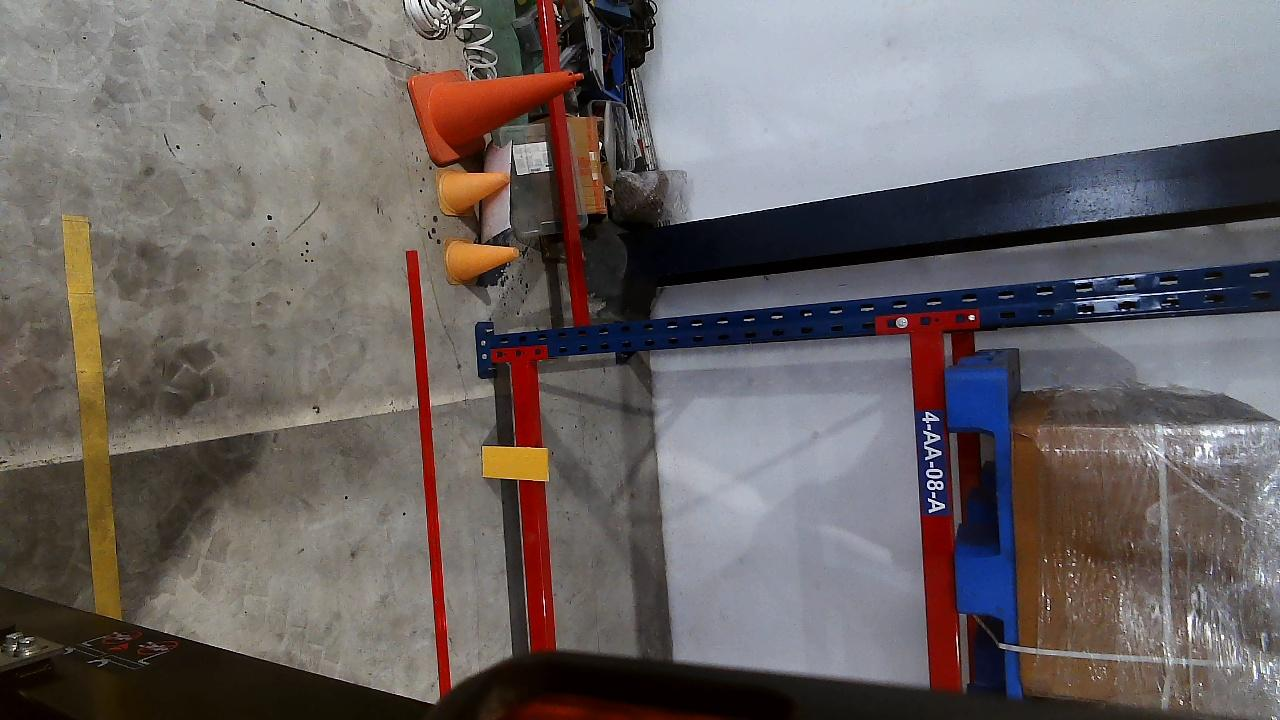h_rack: (908, 326, 962, 690), (509, 358, 555, 651)
orange_strip: (482, 446, 550, 480)
red_line: (409, 250, 452, 694)
small_pallet: (941, 369, 1024, 691)
yellow_line: (58, 214, 119, 617)
